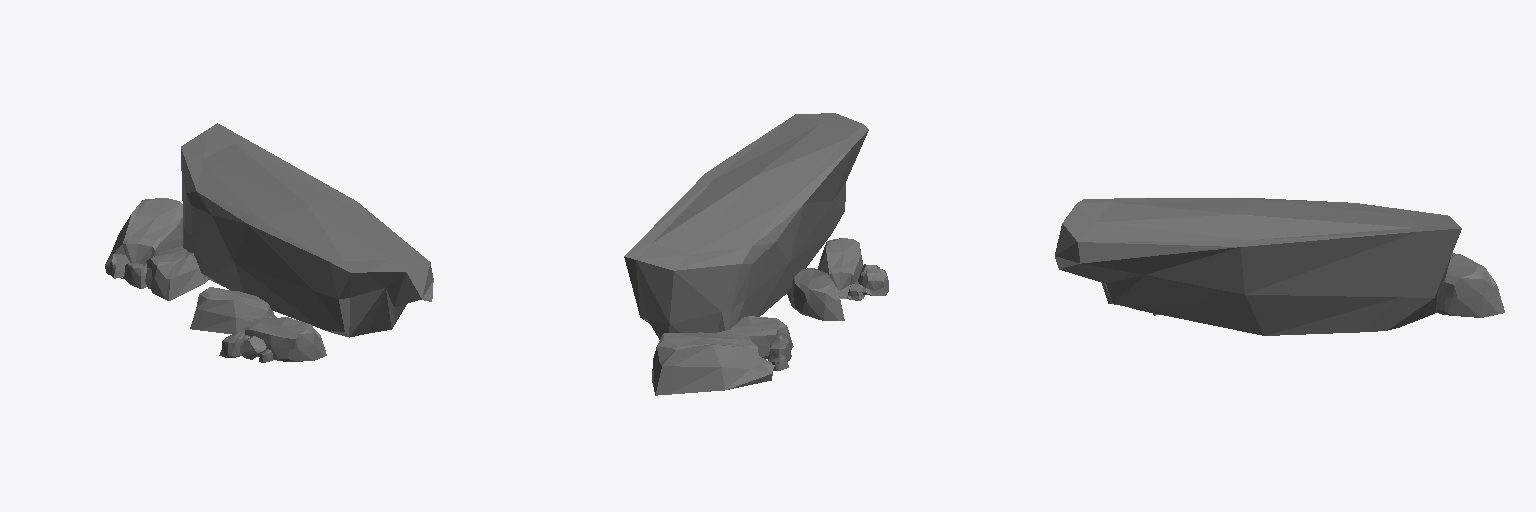
Rendered from rock_Group_2.obj.
The picture shows the model from 3 angles: view 1: azimuth 30°, elevation 25°; view 2: azimuth 150°, elevation 25°; view 3: azimuth 270°, elevation 25°; orthographic projection.
Visible parts, largest first — view 1: rockGroup2:pCube15; view 2: rockGroup2:pCube15; view 3: rockGroup2:pCube15.
Part boxes in pixels (bbox=[...]): rockGroup2:pCube15: bbox=[105, 123, 433, 362]; rockGroup2:pCube15: bbox=[624, 113, 888, 395]; rockGroup2:pCube15: bbox=[1055, 198, 1504, 335].
Bounding box in the file's own units: 103 × 68.95 × 246.